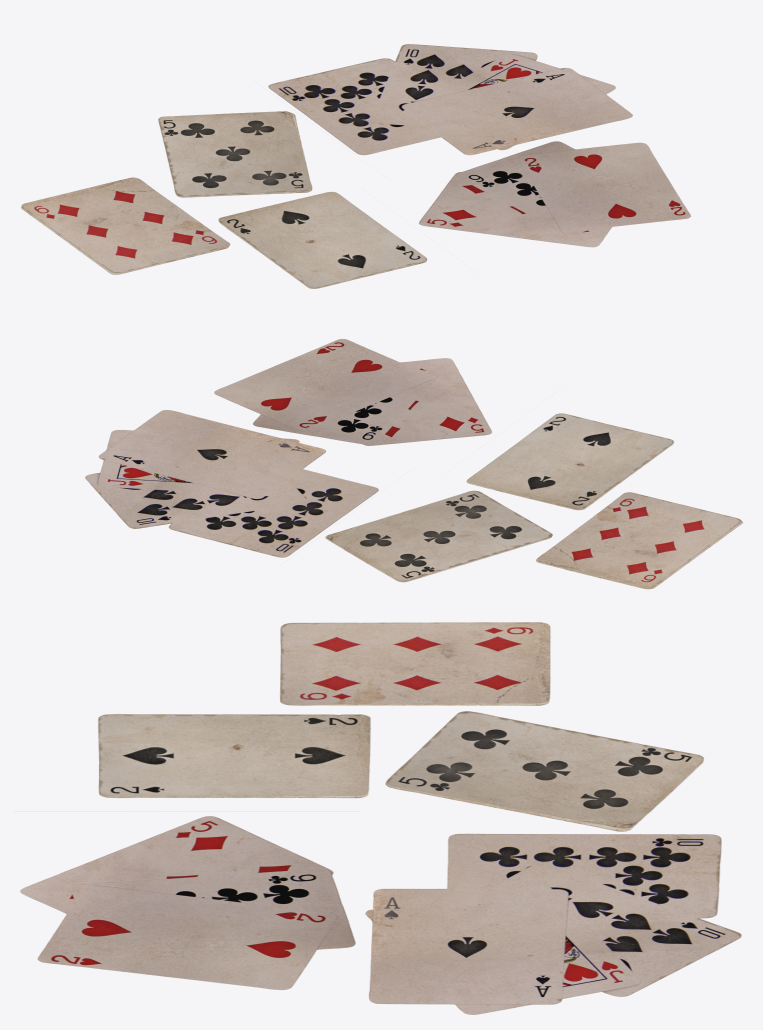
3 renders of one model, top to bottom at view 1: azimuth 30°, elevation 25°; view 2: azimuth 150°, elevation 25°; view 3: azimuth 270°, elevation 25°, orthographic. The views are drawn at different scales.
Parts seen in each view (by area): view 1: PlayingCards02, PlayingCards01, PlayingCard01, PlayingCard02, PlayingCard03; view 2: PlayingCards02, PlayingCards01, PlayingCard02, PlayingCard01, PlayingCard03; view 3: PlayingCards02, PlayingCards01, PlayingCard03, PlayingCard02, PlayingCard01.
Boxes of the visible parts, x1,y1,x2,y2 form: PlayingCards02: [268, 44, 632, 155]; PlayingCards01: [419, 141, 690, 247]; PlayingCard01: [21, 177, 230, 274]; PlayingCard02: [218, 191, 427, 288]; PlayingCard03: [158, 111, 312, 197]; PlayingCards02: [85, 410, 378, 557]; PlayingCards01: [214, 339, 491, 445]; PlayingCard02: [466, 413, 673, 510]; PlayingCard01: [536, 492, 742, 589]; PlayingCard03: [325, 490, 552, 582]; PlayingCards02: [365, 833, 741, 1014]; PlayingCards01: [20, 816, 355, 989]; PlayingCard03: [385, 711, 703, 831]; PlayingCard02: [98, 714, 370, 798]; PlayingCard01: [279, 622, 550, 705].
Size of the model in its own units: 0.3186 by 0.00064 by 0.2505.
Materials: 1 (1 with a texture image).
